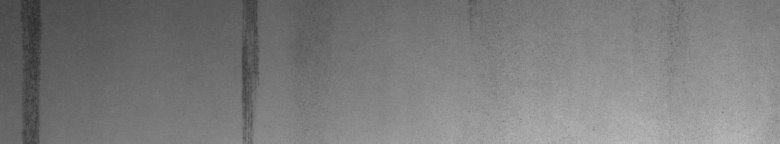hd: (236, 4, 263, 136)
